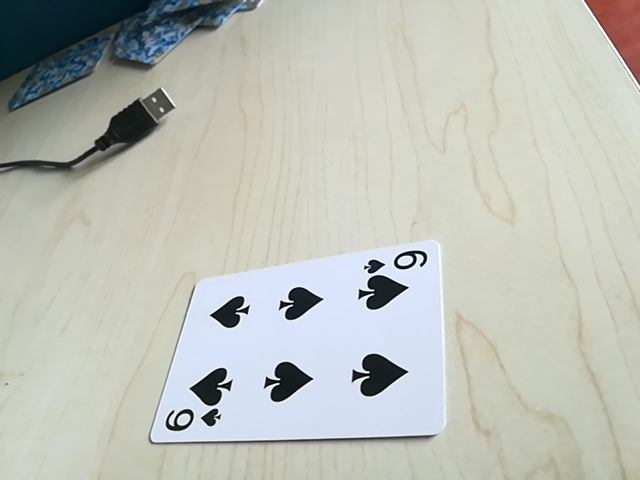ht 6: (156, 405, 225, 437), (363, 246, 431, 277)
